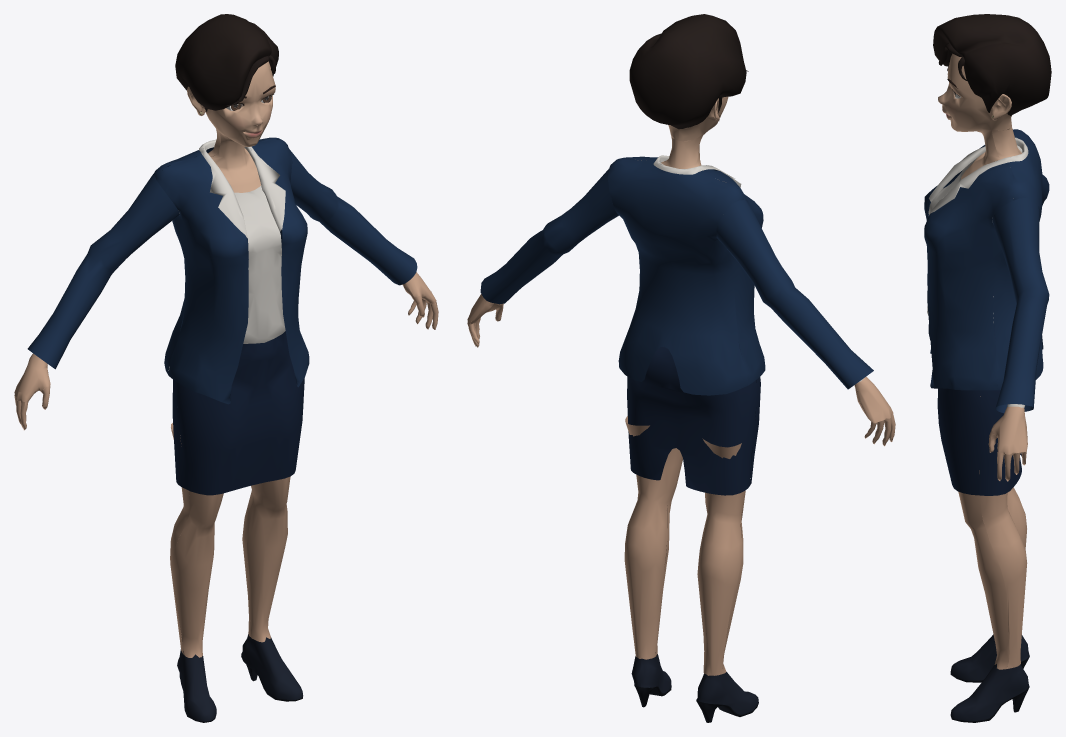
3 renders of one model, left to right at view 1: azimuth 30°, elevation 25°; view 2: azimuth 150°, elevation 25°; view 3: azimuth 270°, elevation 25°, orthographic.
Parts seen in each view (by area): view 1: geo_body_mesh_body; view 2: geo_body_mesh_body; view 3: geo_body_mesh_body.
Part boxes in pixels (x1,y1,x2,y2): geo_body_mesh_body: [14, 14, 438, 722]; geo_body_mesh_body: [467, 14, 895, 722]; geo_body_mesh_body: [924, 14, 1051, 722].
Size of the model in its own units: 4.66 by 7.22 by 1.23.
